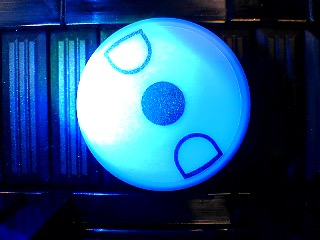BOHOMIPO2: (75, 17, 251, 192)
